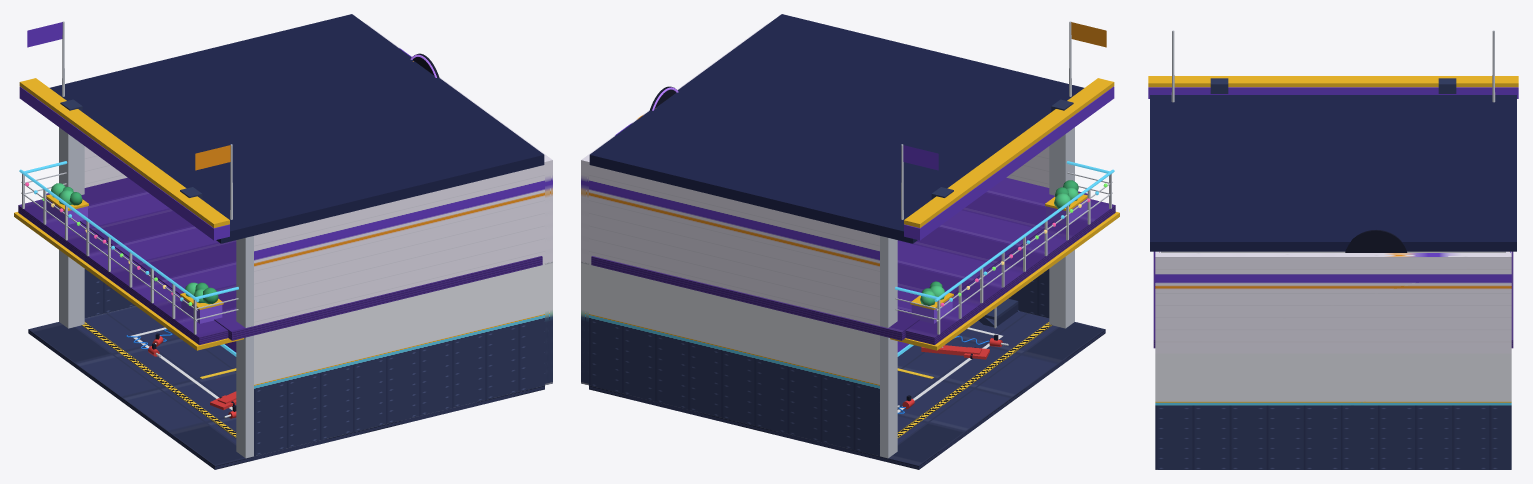
File: pit-garage.glb
The picture shows the model from 3 angles, left to right: view 1: azimuth 30°, elevation 25°; view 2: azimuth 150°, elevation 25°; view 3: azimuth 270°, elevation 25°; orthographic projection. The views are drawn at different scales.
Visible parts, largest first — view 1: Roof, WallRight, WallRightUpper, Floor, Shell, MezzanineFloor, Balcony, Planter (×2), Rail, Workshop, Lights, WallLeft (+3 smaller); view 2: Roof, WallLeft, WallLeftUpper, Floor, Shell, MezzanineFloor, Balcony, Planter (×2), Rail, Lights, Workshop, WallRight (+5 smaller); view 3: Roof, WallBack, WallBackUpper, Shell, NeonLogo, MezzanineFloor, Ceiling.
Part boxes in pixels (x1,y1,x2,y2): Roof: [50, 14, 544, 243]; WallRight: [254, 263, 544, 456]; WallRightUpper: [254, 162, 544, 325]; Floor: [28, 306, 544, 469]; Shell: [19, 21, 253, 458]; MezzanineFloor: [46, 177, 542, 340]; Balcony: [14, 198, 243, 350]; Planter (×2): [46, 183, 223, 323]; Rail: [21, 172, 238, 334]; Workshop: [81, 322, 236, 438]; Lights: [19, 54, 436, 356]; WallLeft: [84, 269, 135, 318]; Roof: [589, 14, 1083, 243]; WallLeft: [589, 263, 879, 456]; WallLeftUpper: [589, 162, 879, 325]; Floor: [589, 311, 1105, 469]; Shell: [880, 21, 1114, 458]; MezzanineFloor: [591, 177, 1087, 340]; Balcony: [890, 199, 1119, 350]; Planter (×2): [910, 180, 1087, 323]; Rail: [895, 172, 1112, 334]; Lights: [652, 87, 1114, 356]; Workshop: [897, 322, 1052, 438]; WallRight: [1008, 269, 1049, 318]; Roof: [1150, 95, 1516, 251]; WallBack: [1155, 353, 1511, 469]; WallBackUpper: [1155, 253, 1511, 353]; Shell: [1148, 30, 1518, 102]; NeonLogo: [1345, 230, 1407, 252]; MezzanineFloor: [1153, 251, 1513, 348]; Ceiling: [1161, 251, 1505, 252].
Size of the model in its own units: 10.95 by 9.29 by 10.4.
Materials: 80 (10 with a texture image).
